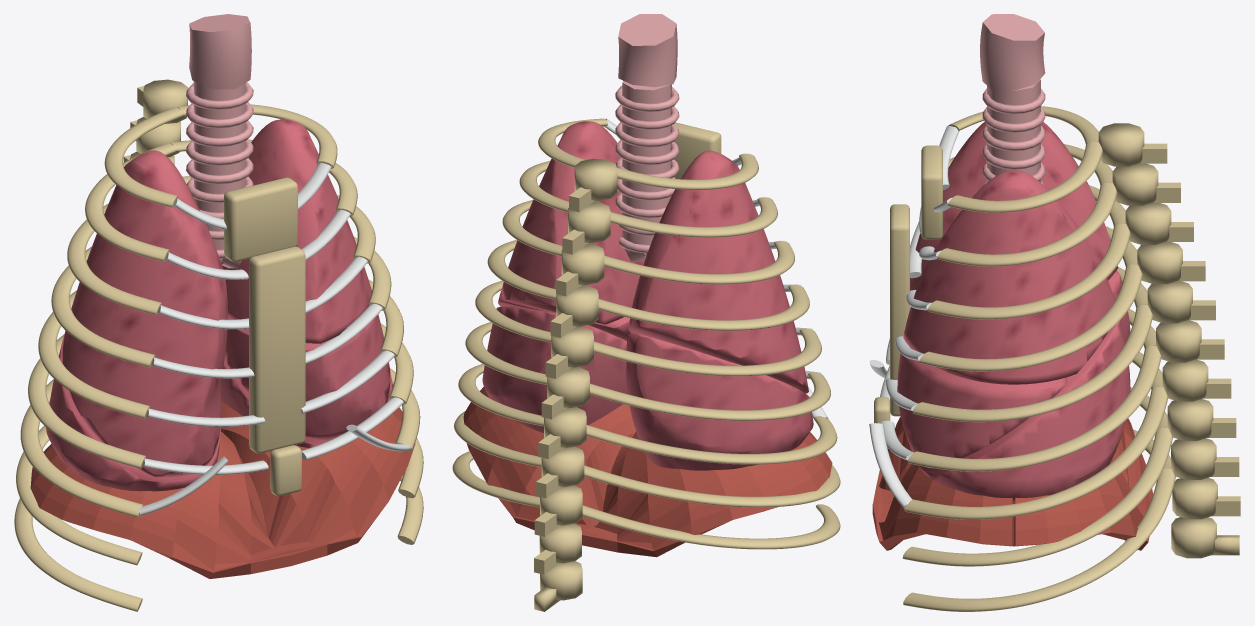
Rendered from respiratory-DtRVjvZO.glb.
3 renders of one model, left to right at view 1: azimuth 30°, elevation 25°; view 2: azimuth 150°, elevation 25°; view 3: azimuth 270°, elevation 25°, orthographic. The views are drawn at different scales.
Visible parts, largest first — view 1: ribcage, lungs, diaphragm, airway, spine; view 2: lungs, ribcage, diaphragm, spine, airway; view 3: lungs, ribcage, spine, diaphragm, airway.
Boxes of the visible parts, <box> form: ribcage: <box>14,104,423,611</box>; lungs: <box>46,119,392,491</box>; diaphragm: <box>30,401,415,578</box>; airway: <box>186,14,253,268</box>; spine: <box>123,79,187,164</box>; lungs: <box>482,121,813,470</box>; ribcage: <box>452,118,840,549</box>; diaphragm: <box>463,387,832,557</box>; spine: <box>534,158,617,611</box>; airway: <box>615,14,741,365</box>; lungs: <box>897,121,1130,503</box>; ribcage: <box>869,106,1175,611</box>; spine: <box>1098,123,1240,558</box>; diaphragm: <box>872,417,1152,550</box>; airway: <box>980,14,1045,185</box>.
Bounding box in the file's own units: 1.8 × 2.44 × 1.55.
